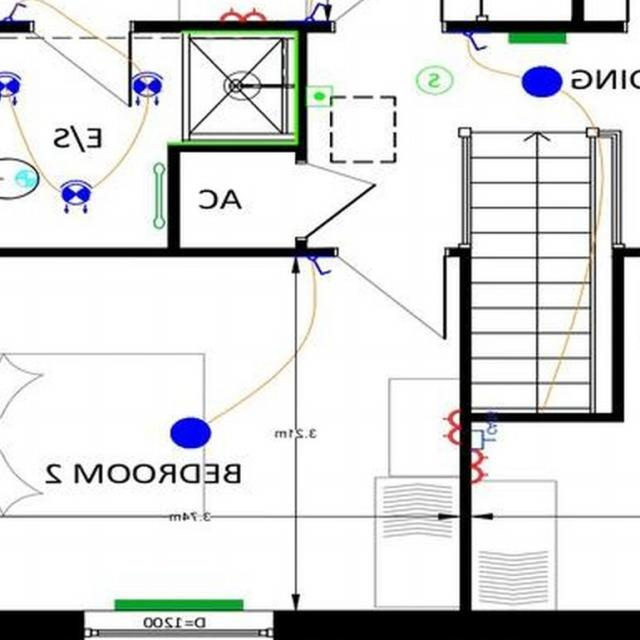Cat 6 Data Socket: (472, 410, 499, 450)
Ceiling Mounted Continuous Extract FanWith Boost Mode Activated By Light Switch: (16, 170, 38, 186)
Double Socket: (443, 409, 461, 444), (472, 449, 490, 484), (221, 7, 266, 21)
Full Height Tiling: (170, 30, 300, 144)
Light Switch: (308, 256, 332, 275), (464, 31, 487, 50), (4, 2, 28, 20), (304, 3, 326, 19)
Low Energy Downlighter: (132, 70, 165, 104), (60, 179, 94, 212), (0, 71, 23, 104)
Low Energy Pendant Light: (171, 416, 211, 448), (522, 66, 563, 96)
Mains Wired Smoke Detector: (417, 66, 453, 94)
Programmable Room Thermostat: (308, 85, 334, 106)
Radiator: (116, 598, 244, 611), (509, 32, 567, 43)
